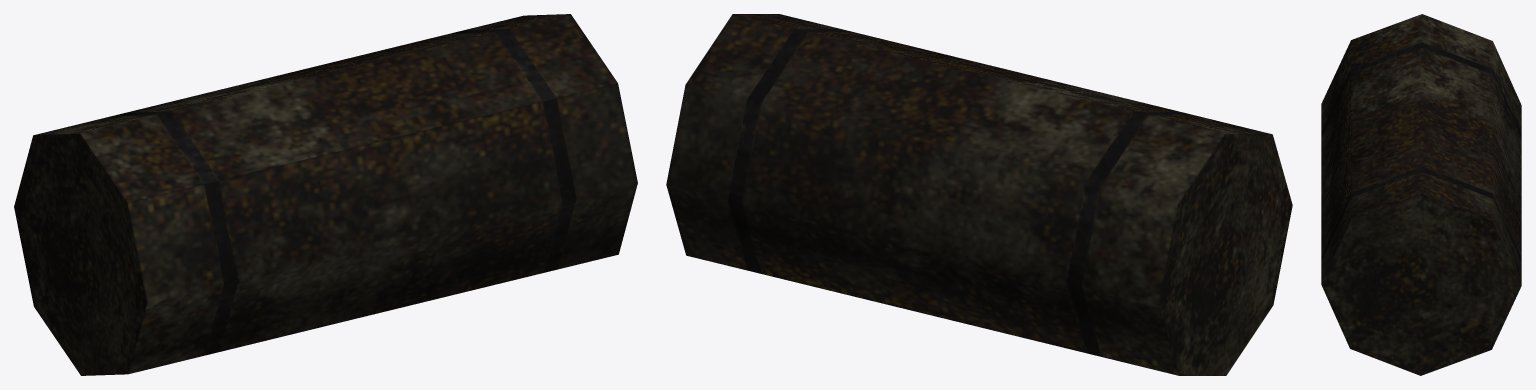
File: SM_EC_Horror_Hay_8.001.fbx
3 views of the same model, side by side, from view 1: azimuth 30°, elevation 25°; view 2: azimuth 150°, elevation 25°; view 3: azimuth 270°, elevation 25° (orthographic). The views are drawn at different scales.
Parts seen in each view (by area): view 1: SM_EC_Horror_Hay_8.001; view 2: SM_EC_Horror_Hay_8.001; view 3: SM_EC_Horror_Hay_8.001.
Boxes of the visible parts, left/top/right/bottom form: SM_EC_Horror_Hay_8.001: left=14, top=14, right=637, bottom=375; SM_EC_Horror_Hay_8.001: left=666, top=14, right=1292, bottom=375; SM_EC_Horror_Hay_8.001: left=1321, top=14, right=1521, bottom=375.
Bounding box in the file's own units: 1.95 × 0.9165 × 0.9165.
